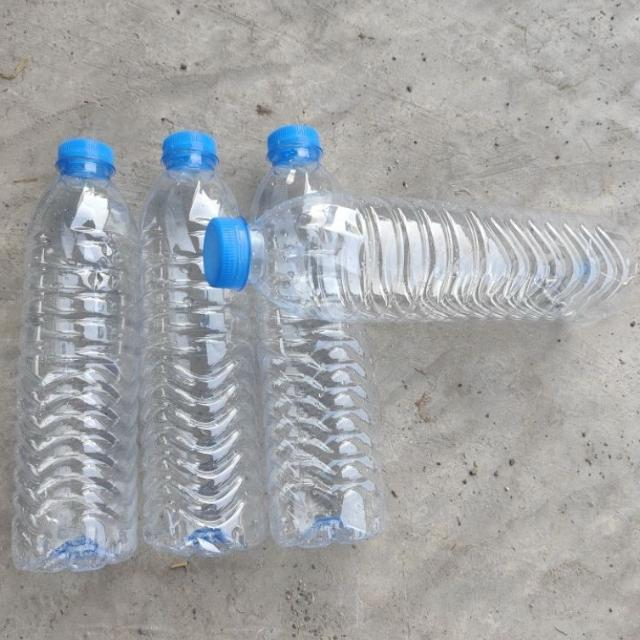PET Bottle: (17, 129, 148, 583), (204, 201, 640, 335), (144, 117, 266, 563), (261, 112, 384, 554)
